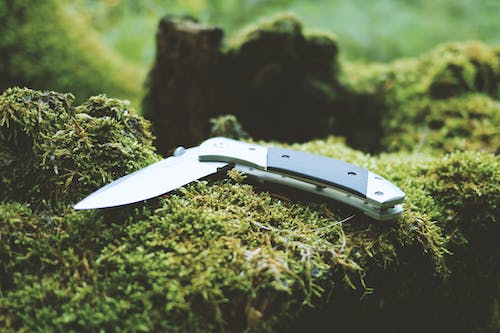knife: (70, 133, 407, 224)
